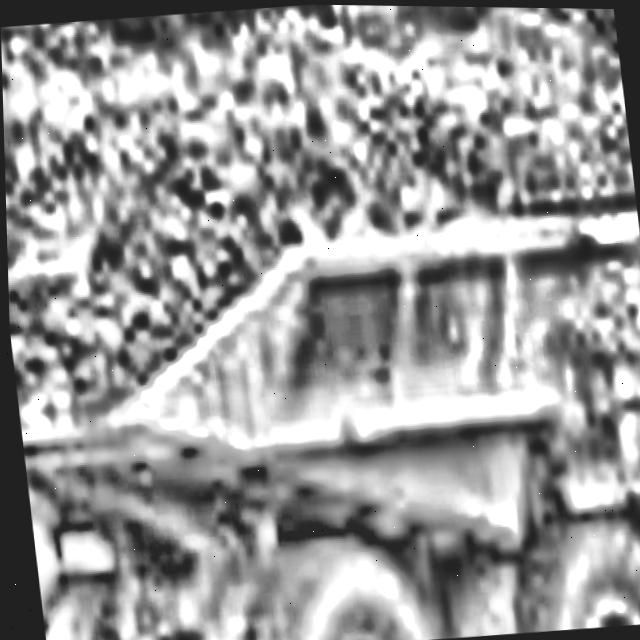dump_truck: (2, 98, 640, 640)
